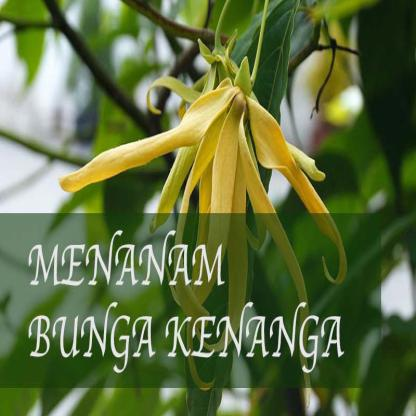Kenanga: (154, 79, 316, 231)
